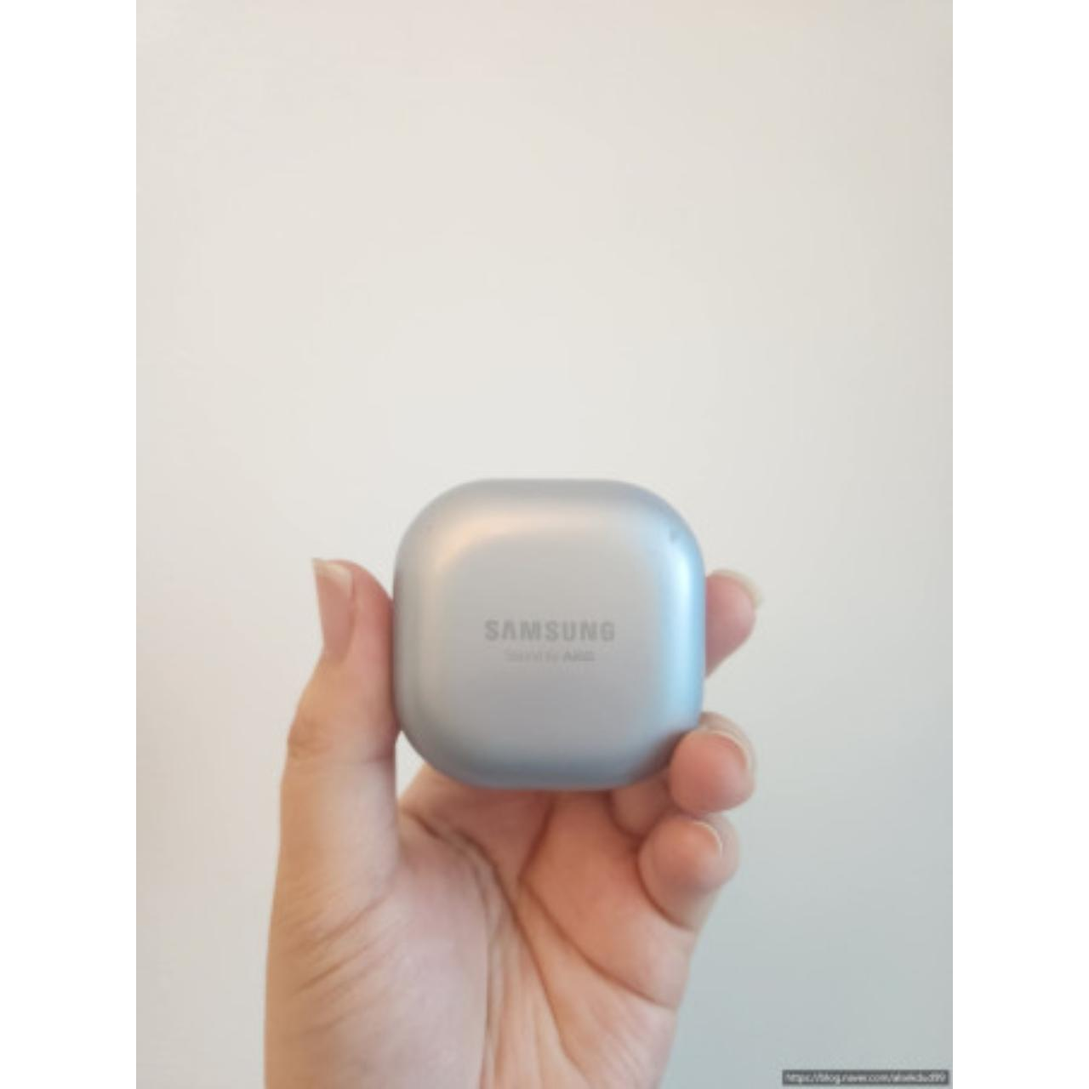Buds: (392, 475, 709, 791)
